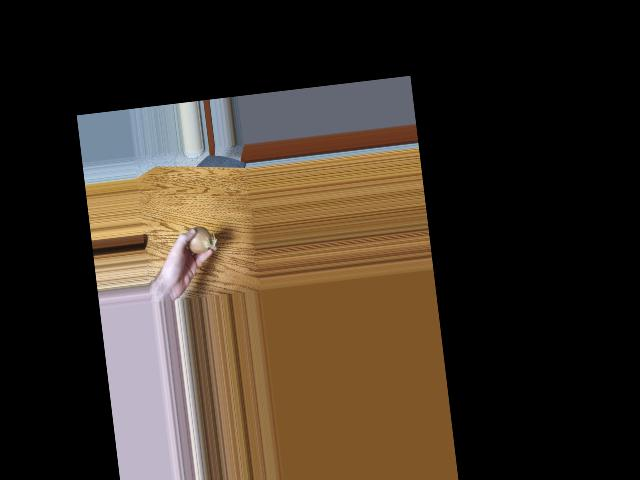onion: (184, 225, 213, 253)
